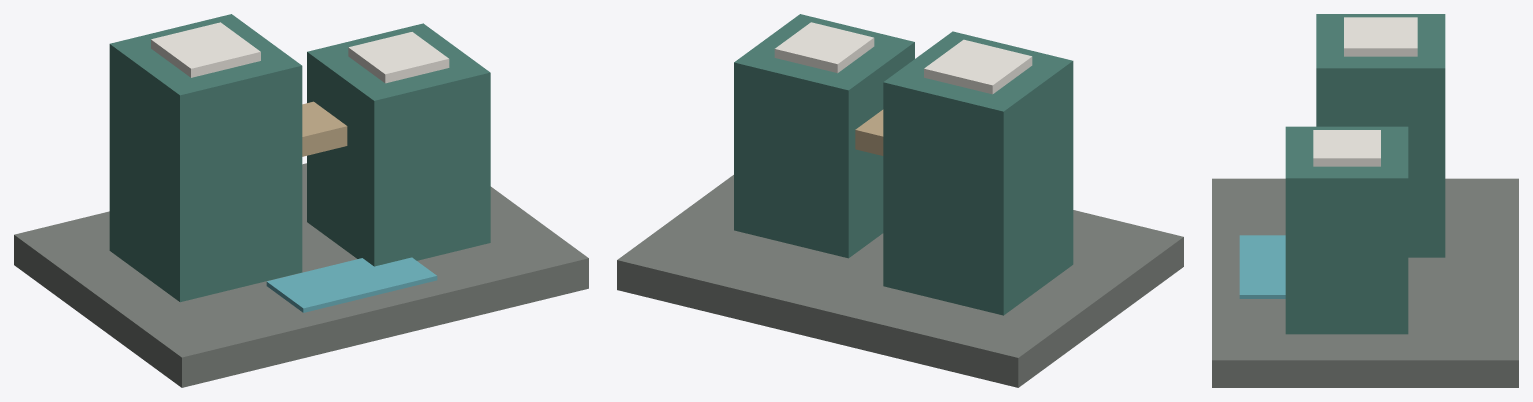
The model's file is tashkent-residences-masterplan.glb.
3 views of the same model, side by side, from view 1: azimuth 30°, elevation 25°; view 2: azimuth 150°, elevation 25°; view 3: azimuth 270°, elevation 25° (orthographic). The views are drawn at different scales.
Parts seen in each view (by area): view 1: TowerA, Podium, TowerB, PlazaPool, TowerACore, TowerBCore, SkyBridge; view 2: Podium, TowerA, TowerB, TowerACore, TowerBCore, SkyBridge; view 3: Podium, TowerB, TowerA, PlazaPool, TowerACore, TowerBCore.
Part boxes in pixels (box(x1,y1,x2,y2)): TowerA: box(109, 14, 302, 302); Podium: box(14, 163, 588, 387); TowerB: box(307, 23, 490, 266); PlazaPool: box(266, 257, 437, 312); TowerACore: box(151, 22, 260, 77); TowerBCore: box(348, 32, 449, 83); SkyBridge: box(302, 101, 347, 156); Podium: box(617, 175, 1183, 387); TowerA: box(883, 31, 1073, 315); TowerB: box(734, 14, 914, 258); TowerACore: box(924, 39, 1032, 94); TowerBCore: box(774, 22, 874, 73); SkyBridge: box(855, 109, 883, 155); Podium: box(1212, 178, 1518, 387); TowerB: box(1285, 126, 1408, 334); TowerA: box(1316, 14, 1445, 257); PlazaPool: box(1239, 235, 1285, 298); TowerACore: box(1344, 17, 1417, 56); TowerBCore: box(1313, 130, 1380, 166).
Bounding box in the file's own units: 14 × 8.1 × 10.
